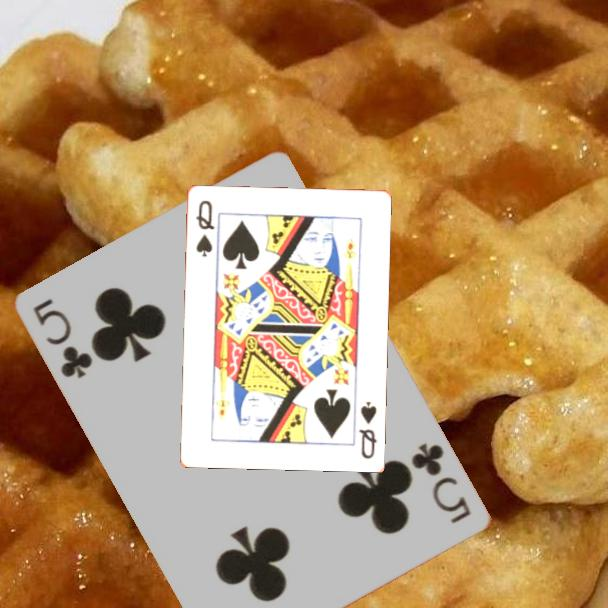c05: (408, 439, 475, 527), (30, 295, 97, 382)
s12: (355, 397, 380, 461), (192, 197, 217, 259)
